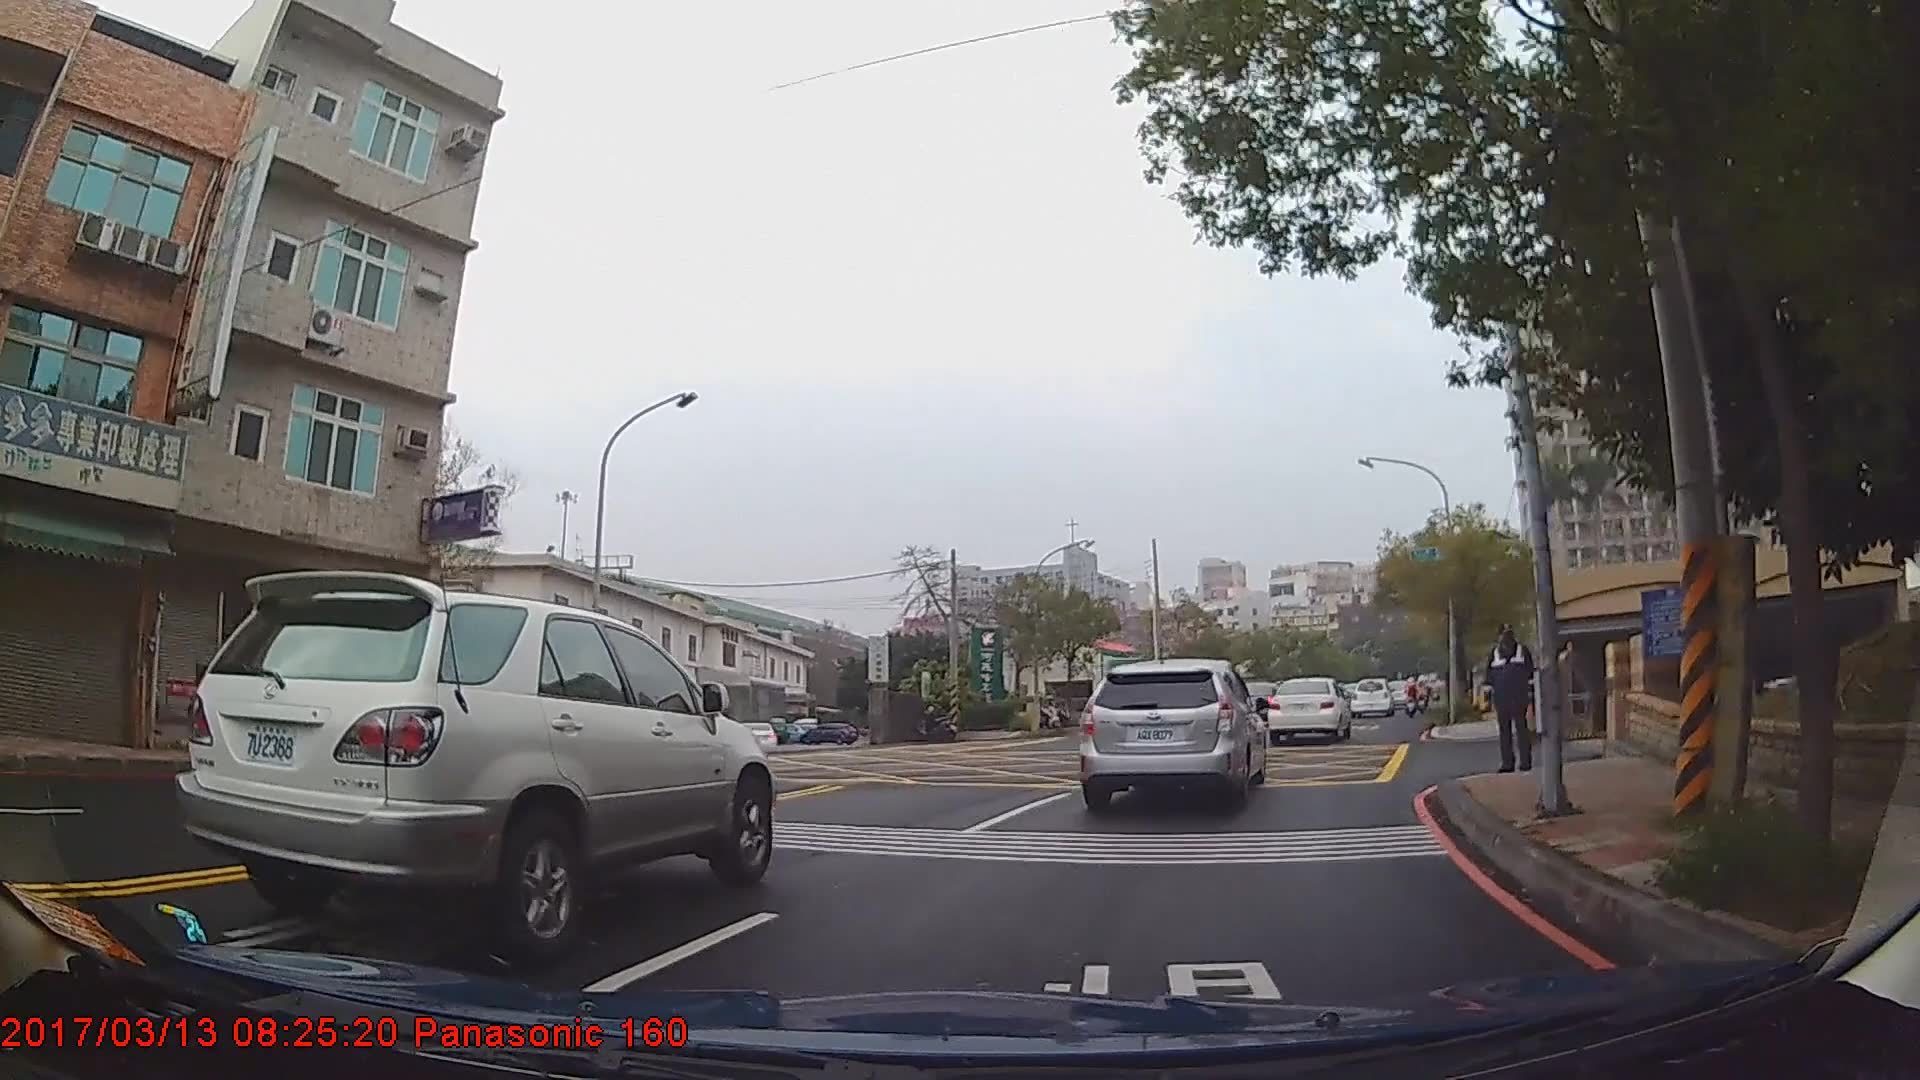pedestrian: (1482, 622, 1543, 772)
vehicle: (174, 566, 777, 953), (1075, 655, 1265, 819), (1262, 674, 1349, 740), (1348, 678, 1395, 721), (797, 720, 859, 742)
